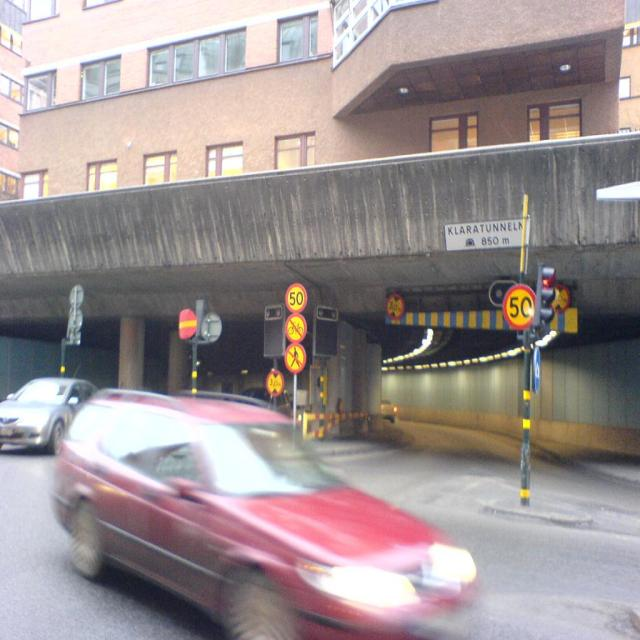car: (42, 381, 475, 638)
